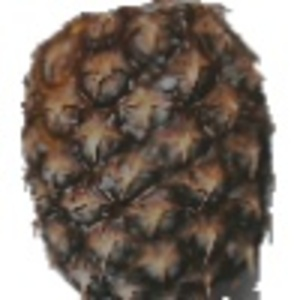abacaxi: (15, 2, 279, 298)
